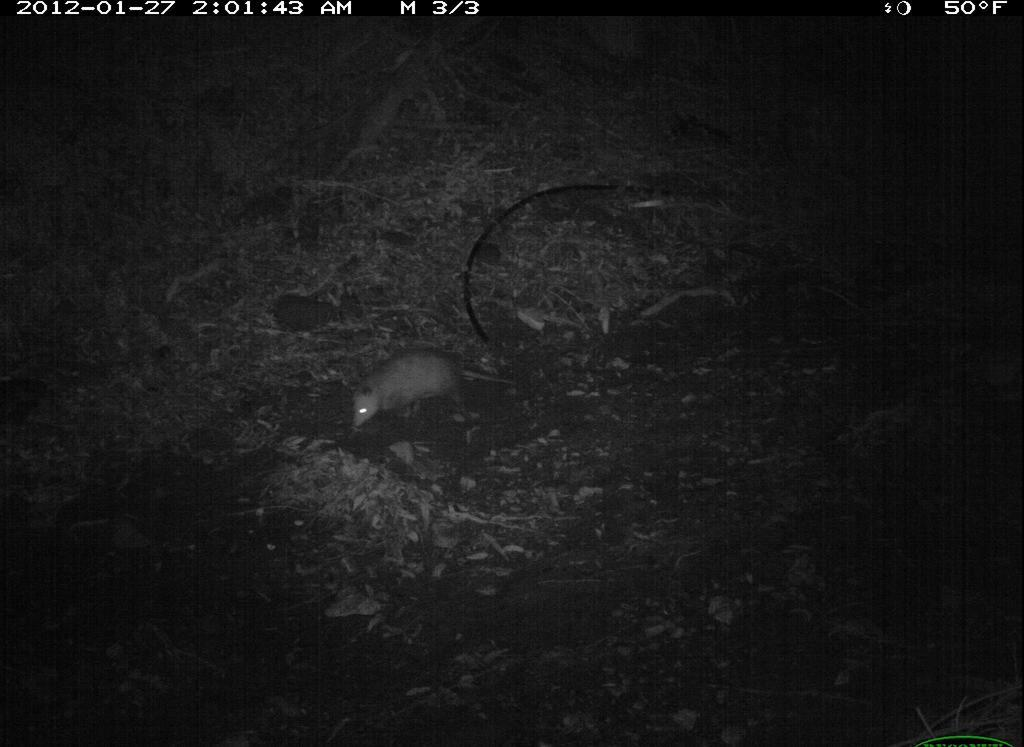opossum: (346, 344, 524, 440)
